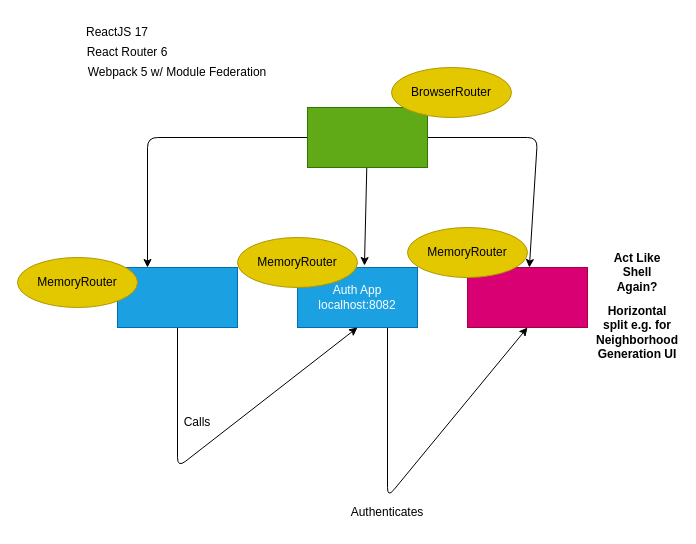
Image size: 696x544. Some labels were removed from this diagram. Here are the shapes that lost their labels. From the top down, the centre of each, then its label:
At point 367,137: "Shell localhost:8080".
At point 177,297: "Marketing App localhost:8081".
At point 527,297: "DaFne App localhost:8083".
